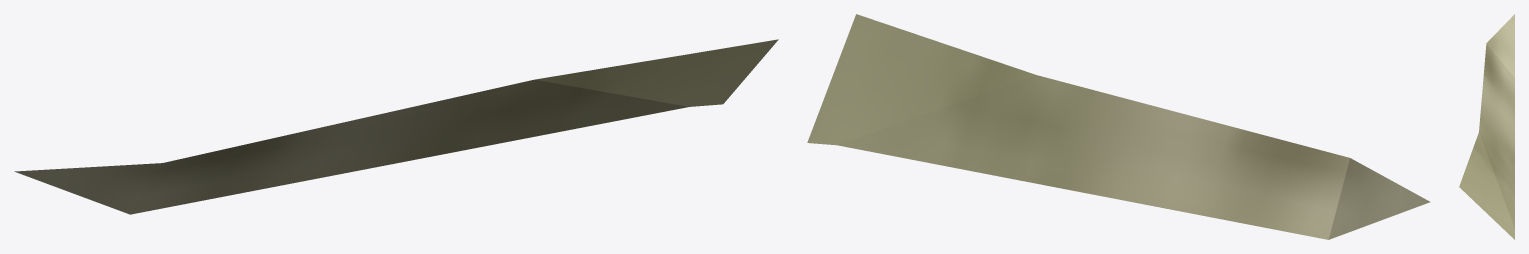
3 renders of one model, left to right at view 1: azimuth 30°, elevation 25°; view 2: azimuth 150°, elevation 25°; view 3: azimuth 270°, elevation 25°, orthographic. The views are drawn at different scales.
Size of the model in its own units: 0.4001 by 0.0571 by 0.0545.
1 material, 1 textured.
